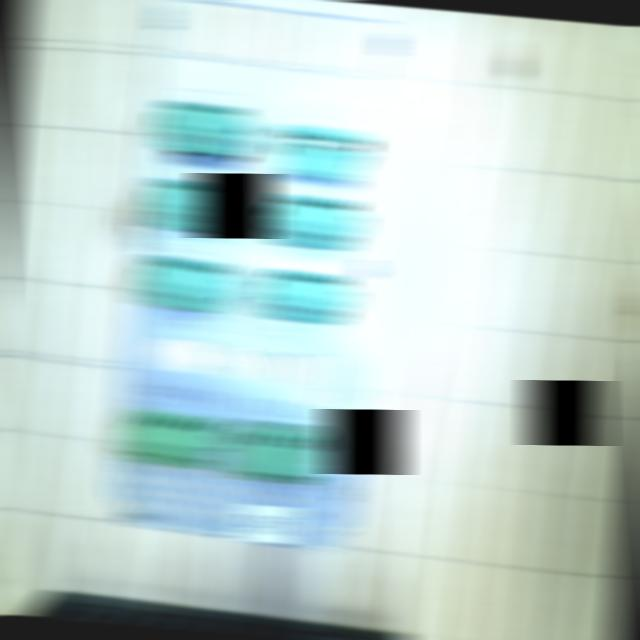Terminal_1: (121, 408, 219, 469), (228, 423, 324, 484)
Terminal_2: (137, 252, 232, 313), (145, 176, 239, 234), (259, 266, 351, 325), (153, 98, 247, 155), (267, 192, 359, 250)
